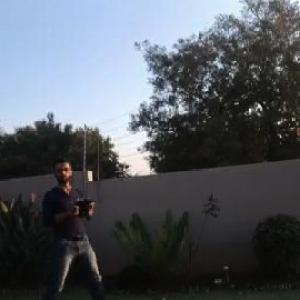follow: (33, 144, 127, 299)
